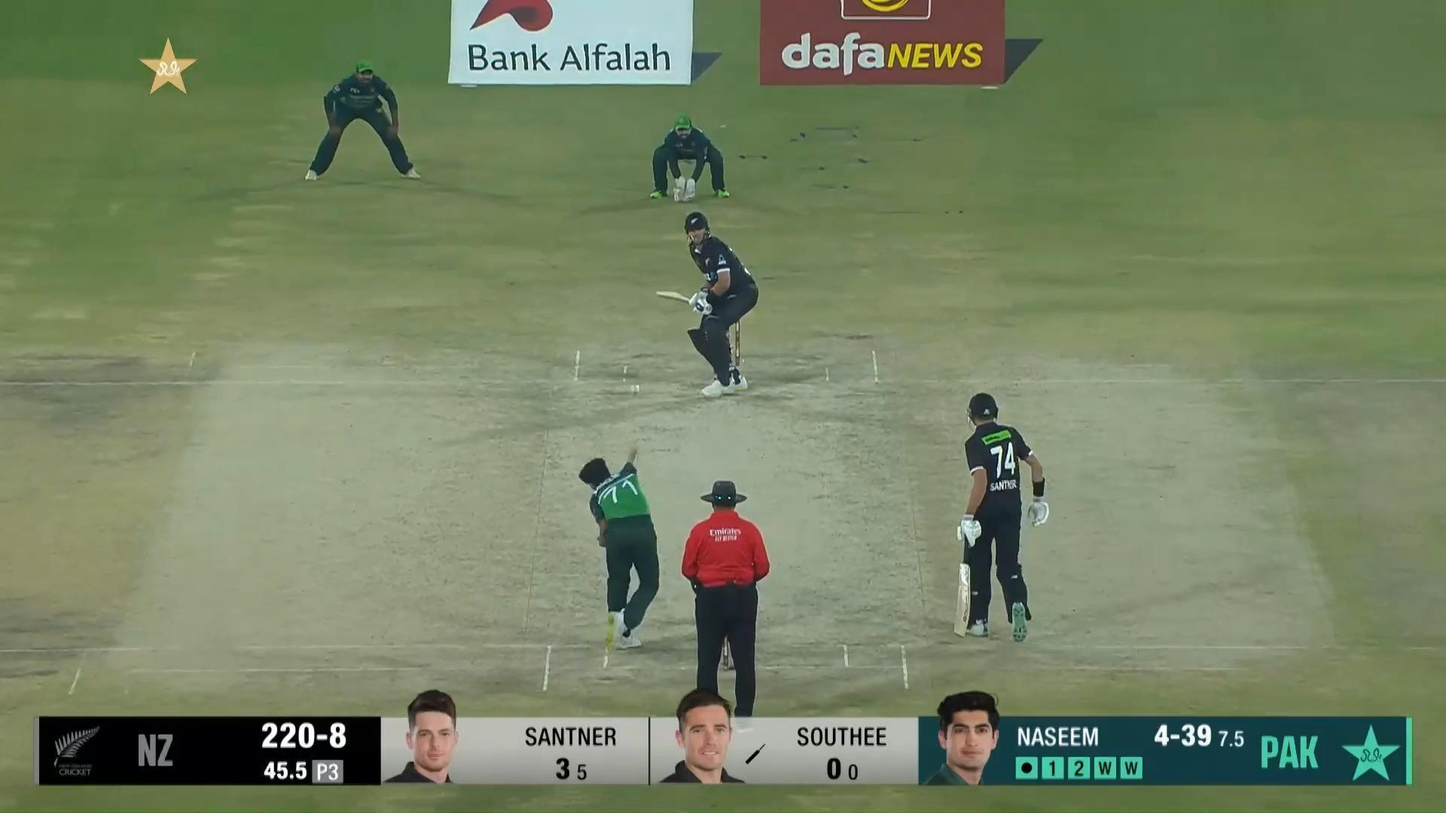BM 1: (654, 211, 759, 399)
BO: (577, 442, 663, 651)
